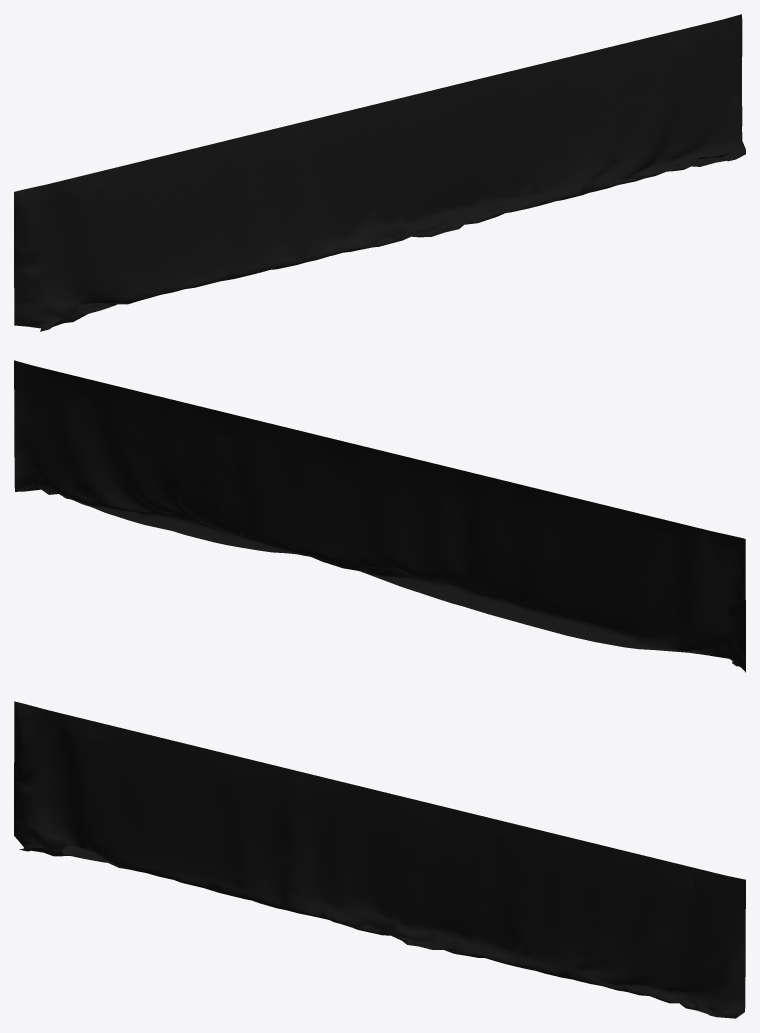
The model's file is StageCurtain02_1.FBX.
3 views of the same model, one above another, from view 1: azimuth 30°, elevation 25°; view 2: azimuth 150°, elevation 25°; view 3: azimuth 330°, elevation 25° (orthographic).
Visible parts, largest first — view 1: StageCurtain02_1; view 2: StageCurtain02_1; view 3: StageCurtain02_1.
Boxes of the visible parts, x1,y1,x2,y2 form: StageCurtain02_1: (14,14,745,331); StageCurtain02_1: (14,360,745,672); StageCurtain02_1: (14,701,745,1018).
Bounding box in the file's own units: 594 × 107 × 27.96.
